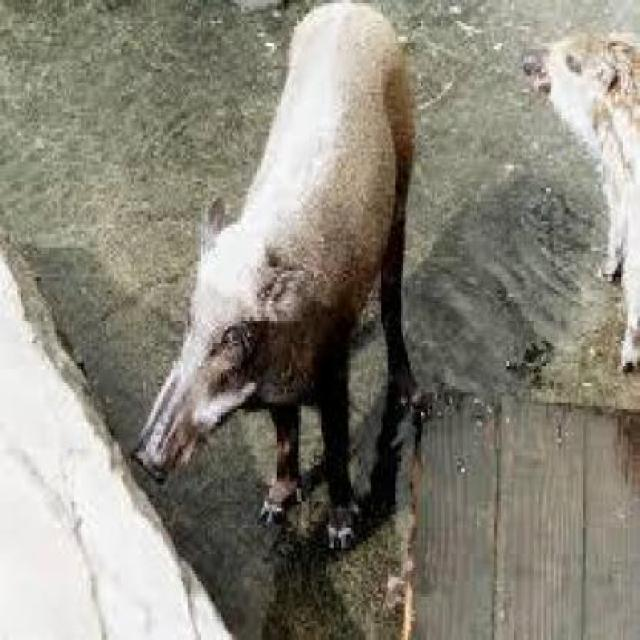wildboar: (126, 0, 418, 552), (515, 36, 640, 376)
